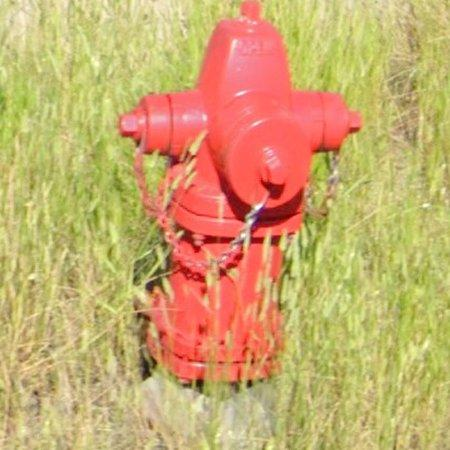a fire hydrant: (119, 1, 363, 384)
